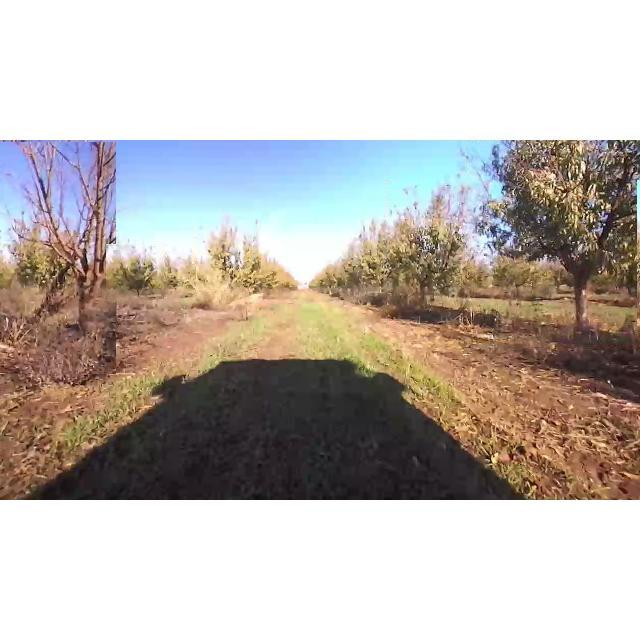direk: (468, 142, 640, 348), (0, 142, 116, 374), (385, 180, 471, 326), (194, 212, 254, 294), (106, 244, 166, 300)
